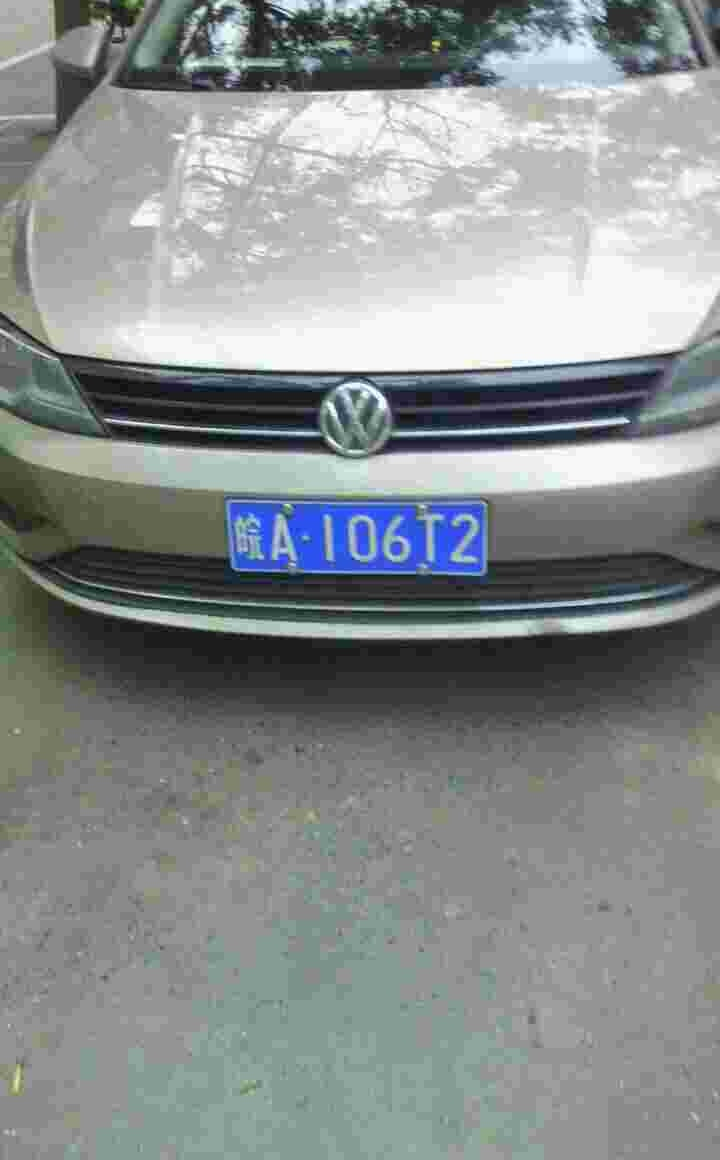license_plate: (228, 499, 484, 580)
